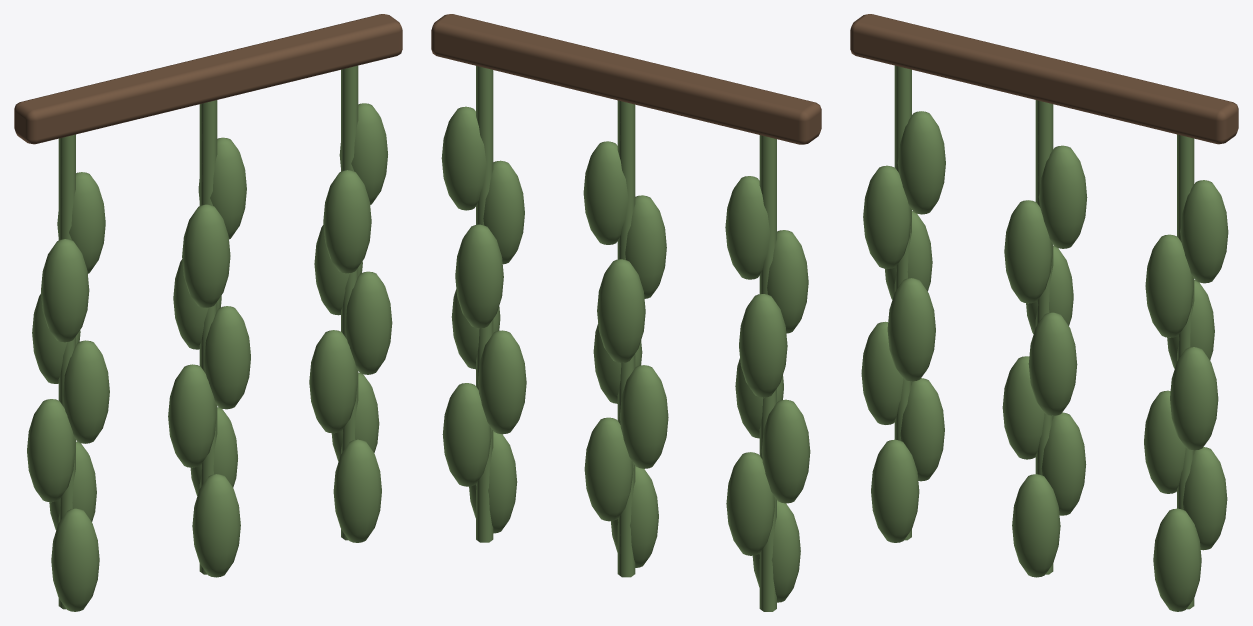
File: adventurers-tavern-and-guild-hall-hanging-herbs-31923639__24730.glb
The picture shows the model from 3 angles, left to right: view 1: azimuth 30°, elevation 25°; view 2: azimuth 150°, elevation 25°; view 3: azimuth 330°, elevation 25°; orthographic projection.
Parts seen in each view (by area): view 1: hanging-herbs; view 2: hanging-herbs; view 3: hanging-herbs.
Part boxes in pixels (x1,y1,x2,y2): hanging-herbs: [14, 14, 402, 611]; hanging-herbs: [431, 14, 821, 611]; hanging-herbs: [850, 14, 1238, 611].
Size of the model in its own units: 0.4 by 0.5175 by 0.0718.
